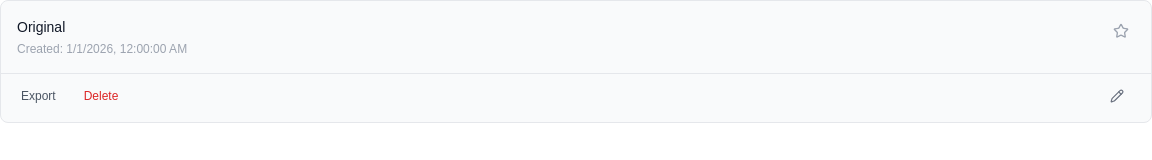
Scenario: ChatHistoryItem › retains the draft on save failure and prevents duplicate pending saves
Click the button named "제목 변경: Original" at (1117, 96), box [1099,78,1135,114]
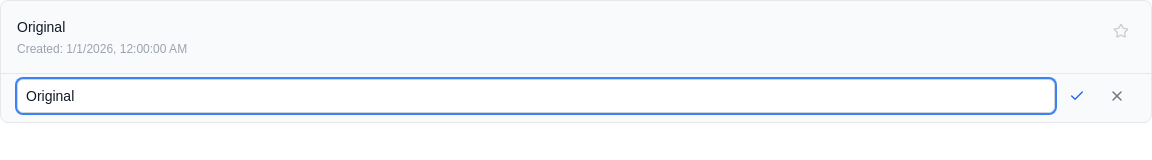
Replace the text in the field with "Keep me" at (536, 96), box [17,79,1055,113]
Then press Enter
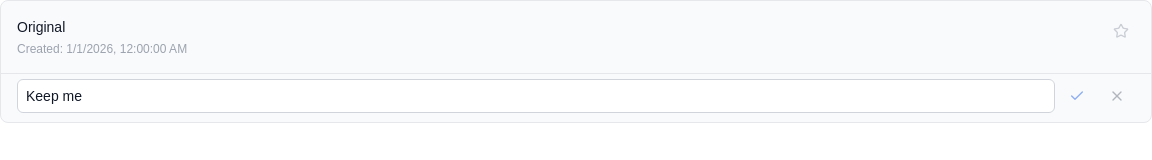
Expected: the button named "제목 저장" is disabled, [1059,78,1095,114]
Press Enter
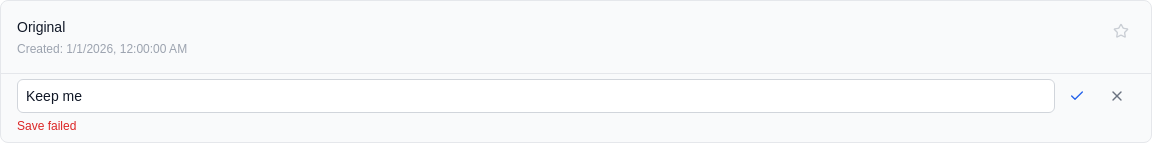
Result: the text "Save failed" is shown at [17,119,76,133]
